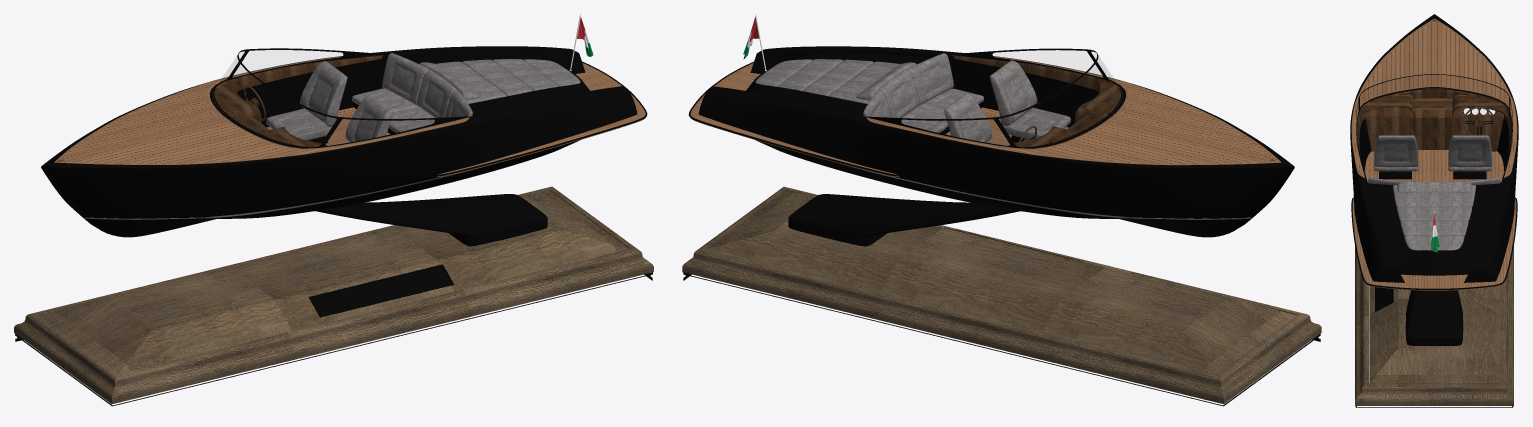
The picture shows the model from 3 angles, left to right: view 1: azimuth 30°, elevation 25°; view 2: azimuth 150°, elevation 25°; view 3: azimuth 270°, elevation 25°; orthographic projection. The views are drawn at different scales.
Parts seen in each view (by area): view 1: xiadele_Box002, xiadele_Box030, xiadele_Rectangle003, xiadele_Box018, xiadele_Box029, xiadele_Rectangle005, xiadele_Box004, xiadele_Shape003, xiadele_Line004, xiadele_Box013, xiadele_Box003, xiadele_Box012 (+17 smaller); view 2: xiadele_Box002, xiadele_Box030, xiadele_Rectangle003, xiadele_Box018, xiadele_Box029, xiadele_Box004, xiadele_Shape003, xiadele_Line004, xiadele_Box007, xiadele_Box003, xiadele_Box013, xiadele_Box009 (+14 smaller); view 3: xiadele_Box030, xiadele_Box002, xiadele_Rectangle003, xiadele_Box018, xiadele_Box004, xiadele_Box029, xiadele_Box003, xiadele_Box017, xiadele_Line007, xiadele_Shape003, xiadele_Line005, xiadele_Box013 (+21 smaller).
Boxes of the visible parts, x1,y1,x2,y2 form: xiadele_Box002: (41,46,637,237); xiadele_Box030: (38,190,628,373); xiadele_Rectangle003: (14,186,653,404); xiadele_Box018: (59,69,465,164); xiadele_Box029: (315,194,547,246); xiadele_Rectangle005: (311,266,451,315); xiadele_Box004: (405,52,589,115); xiadele_Shape003: (54,55,469,164); xiadele_Line004: (213,48,469,148); xiadele_Box013: (300,61,347,126); xiadele_Box003: (436,63,645,176); xiadele_Box012: (382,53,429,104); xiadele_Box002: (698,46,1294,237); xiadele_Box030: (707,190,1296,373); xiadele_Rectangle003: (682,186,1321,404); xiadele_Box018: (870,67,1275,164); xiadele_Box029: (788,194,1020,246); xiadele_Box004: (746,52,930,115); xiadele_Shape003: (866,55,1281,165); xiadele_Line004: (866,48,1122,148); xiadele_Box007: (989,60,1037,126); xiadele_Box003: (690,63,899,177); xiadele_Box013: (944,93,991,142); xiadele_Box009: (906,53,953,104); xiadele_Box030: (1369,285,1499,382); xiadele_Box002: (1350,14,1518,282); xiadele_Rectangle003: (1355,246,1513,405); xiadele_Box018: (1353,21,1515,175); xiadele_Box004: (1367,182,1501,275); xiadele_Box029: (1405,290,1463,345); xiadele_Box003: (1352,198,1516,290); xiadele_Box017: (1415,98,1452,149); xiadele_Line007: (1364,150,1504,182); xiadele_Shape003: (1351,18,1517,177); xiadele_Line005: (1365,107,1413,151); xiadele_Box013: (1448,135,1492,167).
Size of the model in its own units: 392 by 162 by 122.
13 materials, 6 textured.
